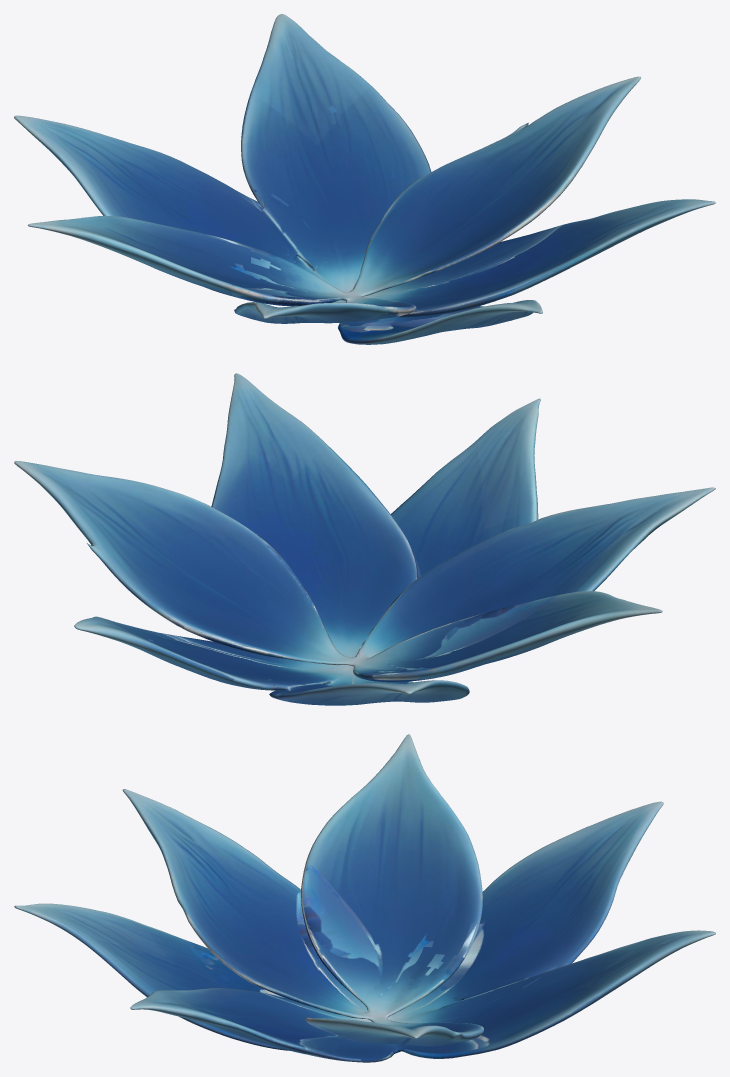
Rendered from flower.fbx.
3 views of the same model, one above another, from view 1: azimuth 30°, elevation 25°; view 2: azimuth 150°, elevation 25°; view 3: azimuth 270°, elevation 25° (orthographic). The views are drawn at different scales.
Parts seen in each view (by area): view 1: tripo_node_f4e974d2; view 2: tripo_node_f4e974d2; view 3: tripo_node_f4e974d2.
Boxes of the visible parts, <box> form: tripo_node_f4e974d2: <box>14,14,715,344</box>; tripo_node_f4e974d2: <box>14,373,715,705</box>; tripo_node_f4e974d2: <box>14,734,715,1062</box>.
Bounding box in the file's own units: 99.25 × 21.75 × 98.47.
Materials: 1 (1 with a texture image).
